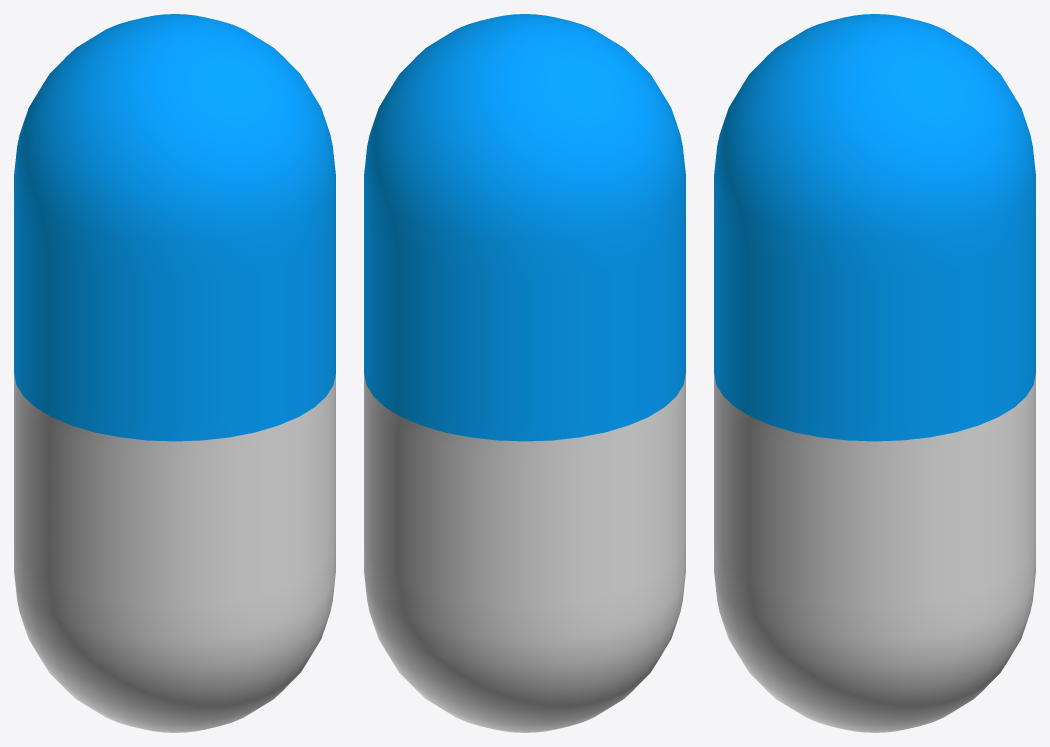
Rendered from Dopamine.fbx.
3 views of the same model, side by side, from view 1: azimuth 30°, elevation 25°; view 2: azimuth 150°, elevation 25°; view 3: azimuth 270°, elevation 25° (orthographic).
Visible parts, largest first — view 1: Capsule_2, Capsule; view 2: Capsule_2, Capsule; view 3: Capsule_2, Capsule.
Part boxes in pixels (x1,y1,x2,y2): Capsule_2: [14, 14, 335, 441]; Capsule: [14, 374, 335, 732]; Capsule_2: [364, 14, 685, 441]; Capsule: [364, 374, 685, 732]; Capsule_2: [714, 14, 1035, 441]; Capsule: [714, 374, 1035, 732].
Bounding box in the file's own units: 100 × 236 × 100.
